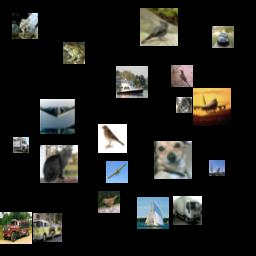airplane: (193, 88, 231, 126), (40, 99, 75, 134), (106, 161, 128, 183), (209, 160, 225, 176)
automobile: (212, 26, 234, 48)
bird: (140, 8, 178, 46), (98, 124, 127, 153), (98, 191, 120, 213), (171, 65, 193, 87)
cat: (40, 145, 78, 183)
dog: (154, 141, 192, 179), (176, 97, 192, 113)
frog: (12, 13, 38, 39), (63, 42, 85, 64)
ship: (137, 197, 169, 229), (116, 66, 148, 98)
truck: (0, 212, 32, 244), (33, 213, 62, 242), (173, 196, 202, 225), (13, 137, 29, 153)
